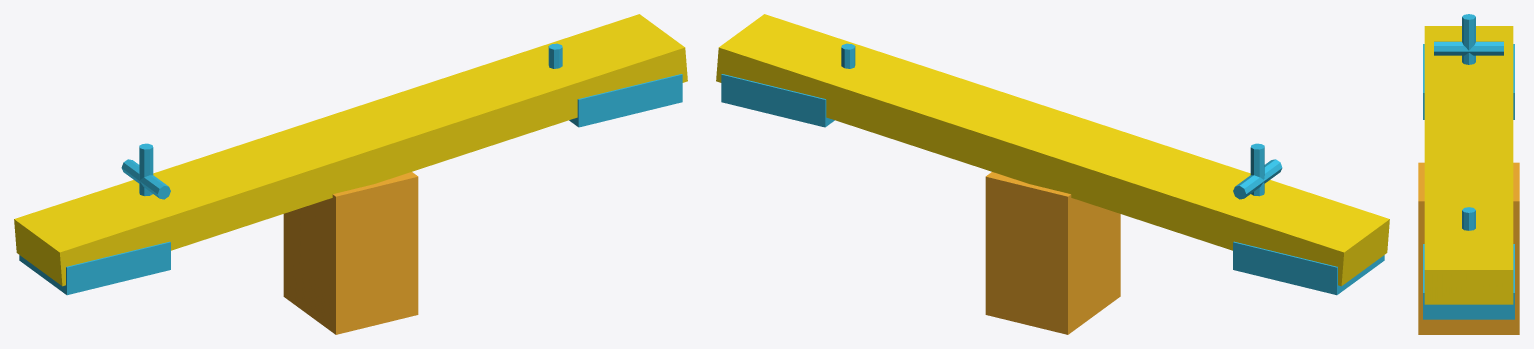
The model's file is Playground_Seesaw.glb.
3 renders of one model, left to right at view 1: azimuth 30°, elevation 25°; view 2: azimuth 150°, elevation 25°; view 3: azimuth 270°, elevation 25°, orthographic. The views are drawn at different scales.
Visible parts, largest first — view 1: Playground_Seesaw; view 2: Playground_Seesaw; view 3: Playground_Seesaw.
Part boxes in pixels (left/top/right/bottom): Playground_Seesaw: left=14, top=14, right=687, bottom=334; Playground_Seesaw: left=716, top=14, right=1389, bottom=334; Playground_Seesaw: left=1418, top=14, right=1519, bottom=334.
Size of the model in its own units: 3.8 by 1.21 by 0.55.
